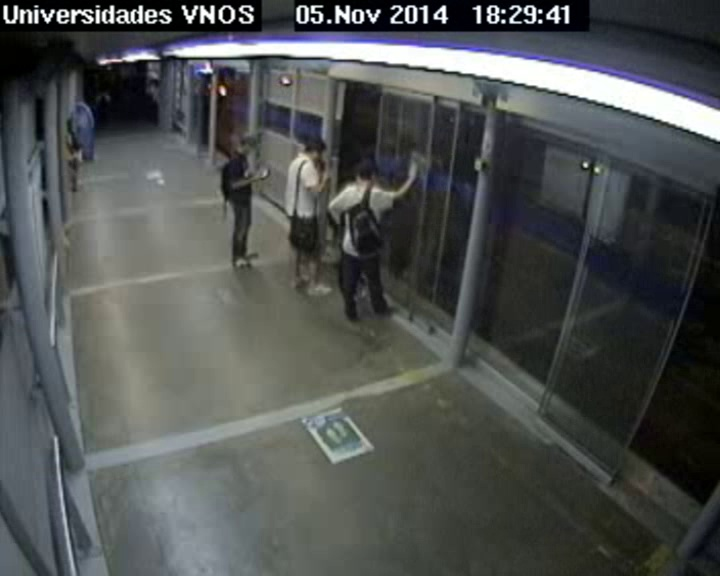person: (351, 156, 382, 185), (306, 137, 329, 161), (237, 131, 259, 153), (66, 117, 77, 131)
